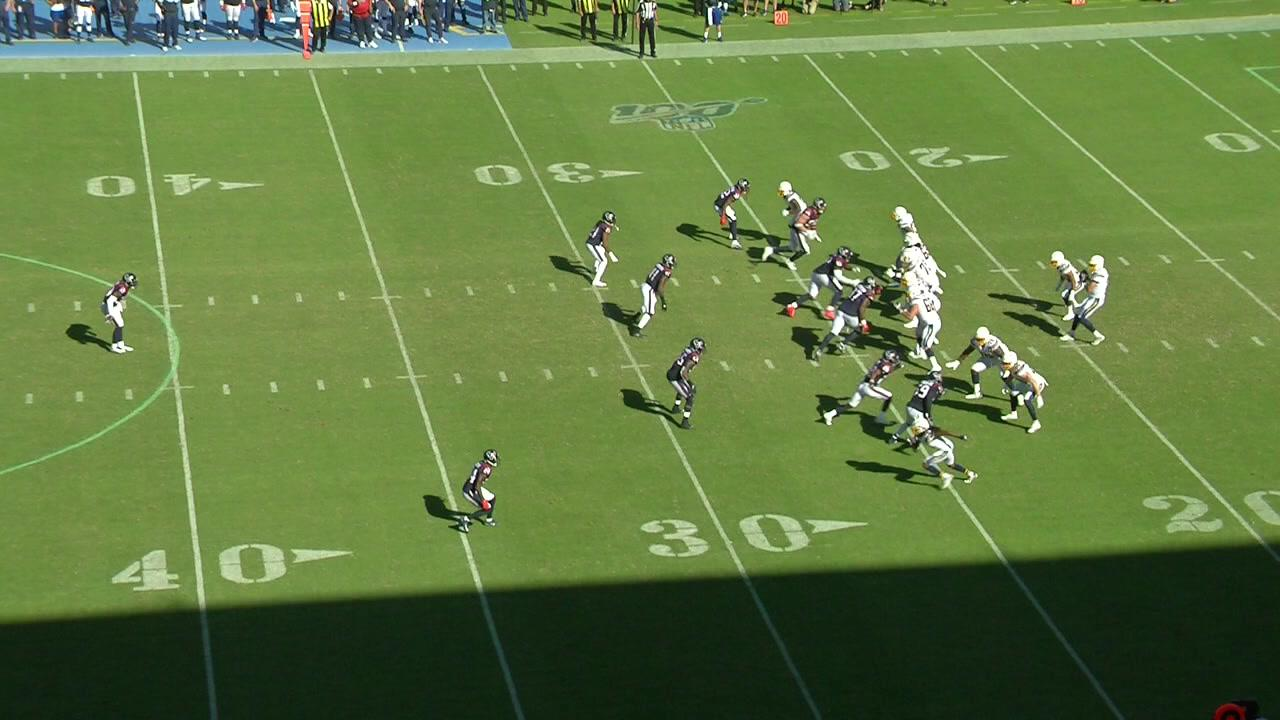player: (448, 441, 513, 545), (824, 349, 901, 427), (1061, 248, 1118, 347), (812, 277, 879, 358), (909, 418, 981, 490), (761, 196, 828, 271), (579, 200, 630, 298), (787, 246, 855, 317), (664, 336, 711, 436), (632, 251, 681, 343), (98, 265, 143, 358), (894, 369, 946, 445), (951, 323, 1004, 396), (1003, 351, 1048, 436), (902, 285, 942, 373), (714, 176, 751, 256), (1046, 246, 1078, 315), (900, 271, 940, 311), (900, 234, 938, 276), (901, 248, 938, 288), (775, 177, 807, 222), (888, 204, 917, 233)
ref: (623, 0, 671, 66)
